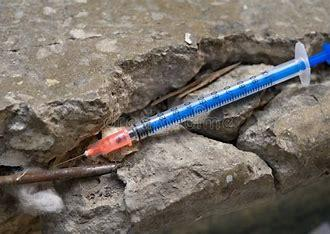Syringe: (49, 35, 327, 170)
